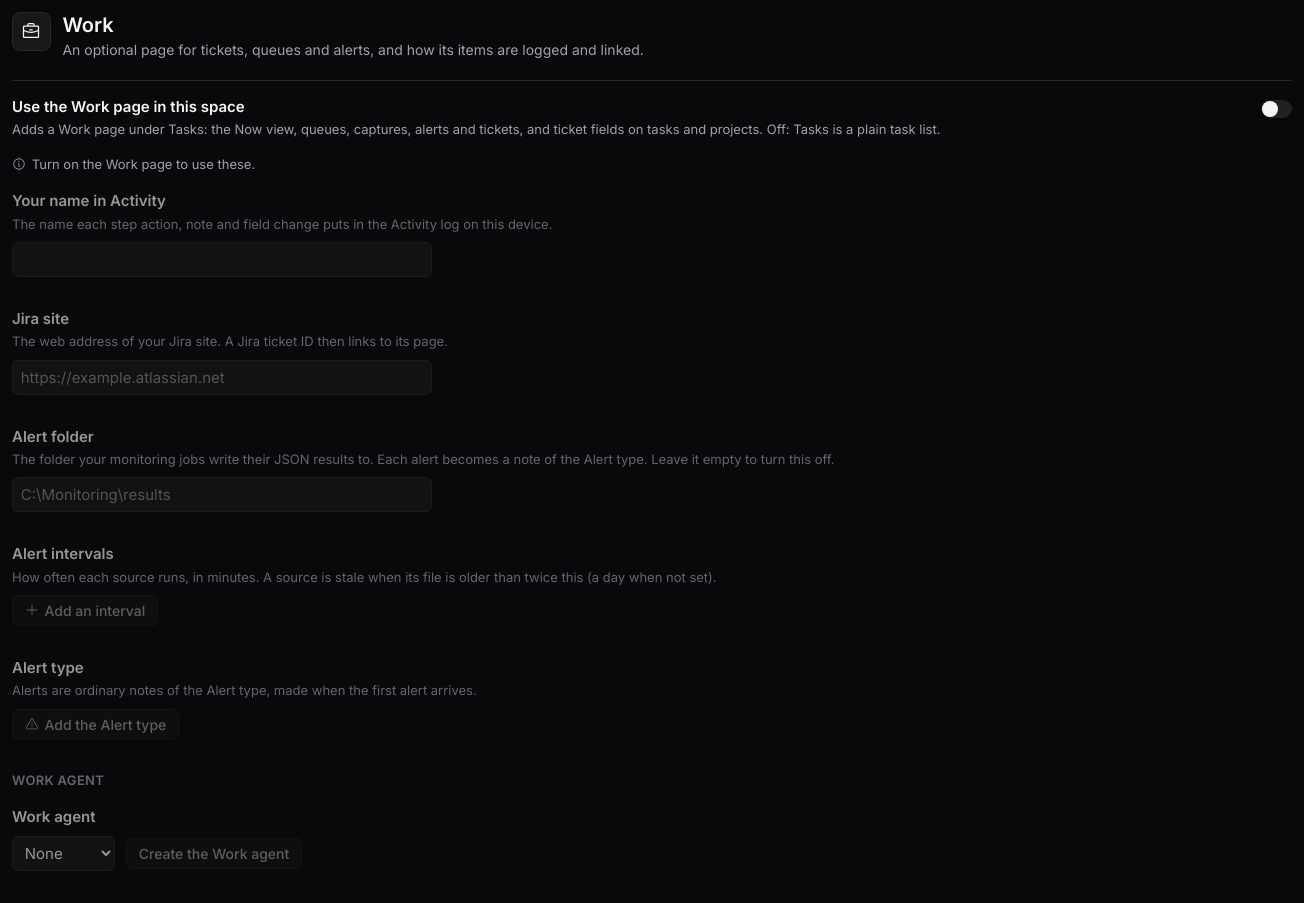
WorkSection: the Work switch (M32) › test a refused switch shows the server's message and the stored value again
The image size is (1304, 903).
Click the switch named "Use the Work page in this space" at (1276,109), box [1261,100,1292,118]
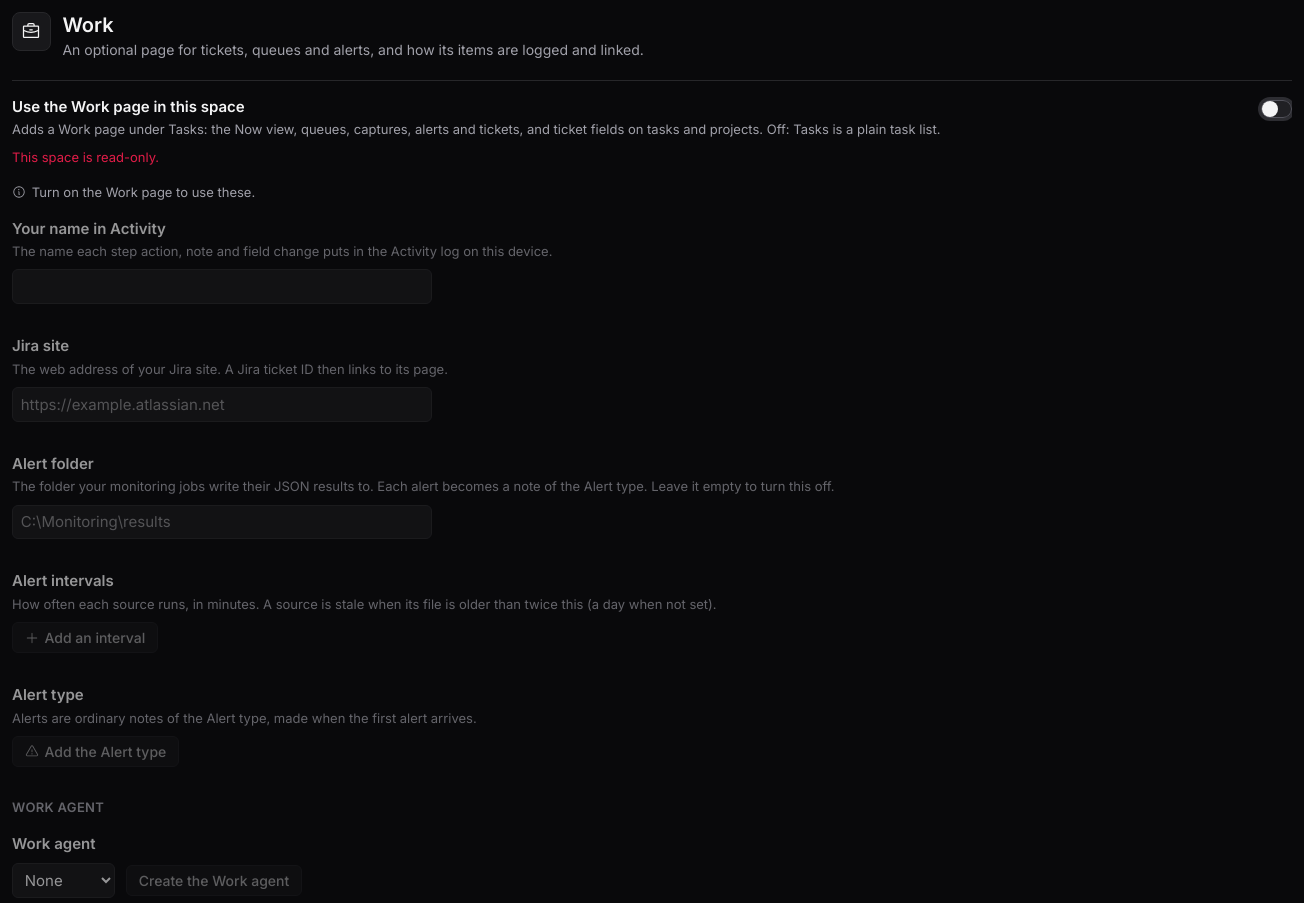
Expected: the text "Turn on the Work page to use these." is shown, [12,184,255,200]
Now the message reads "This space is read-only.", box [12,149,159,165]
